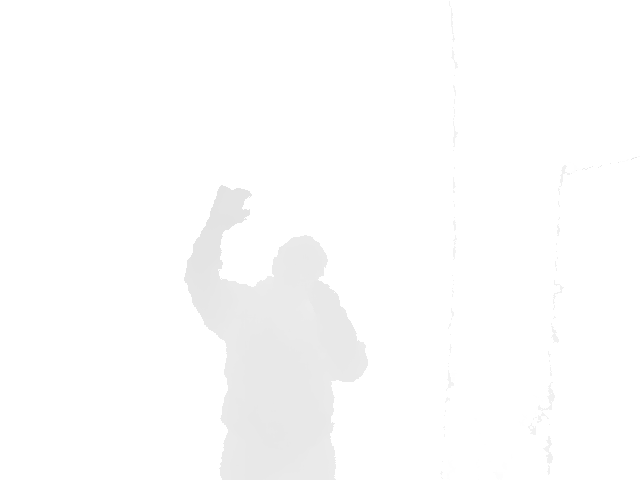hand: (208, 184, 252, 228)
head: (271, 234, 329, 295)
person: (183, 184, 370, 479)
